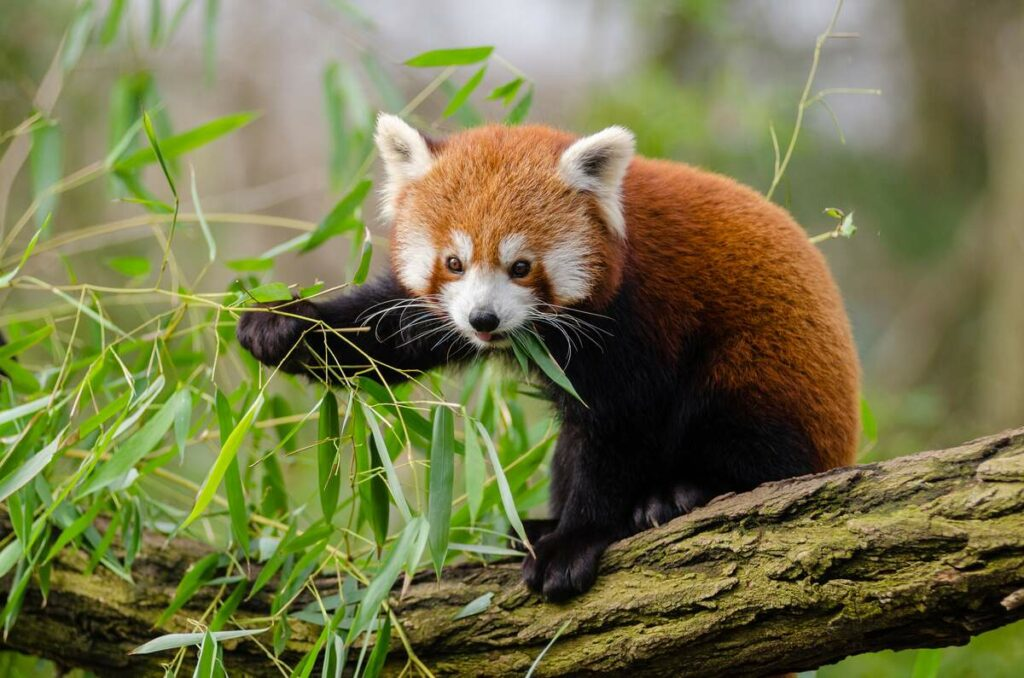Red panda: (360, 104, 639, 347)
